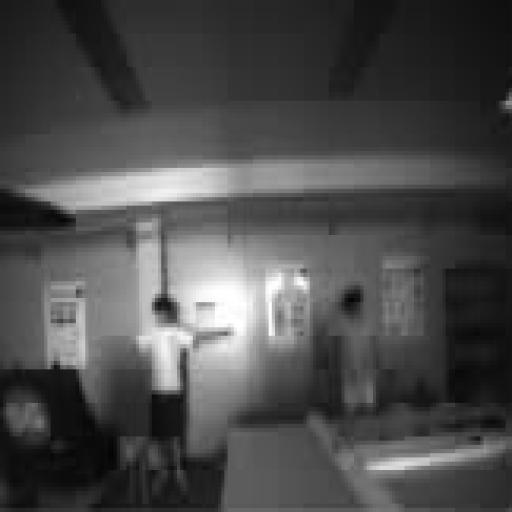human: (140, 294, 227, 491), (332, 286, 379, 415)
